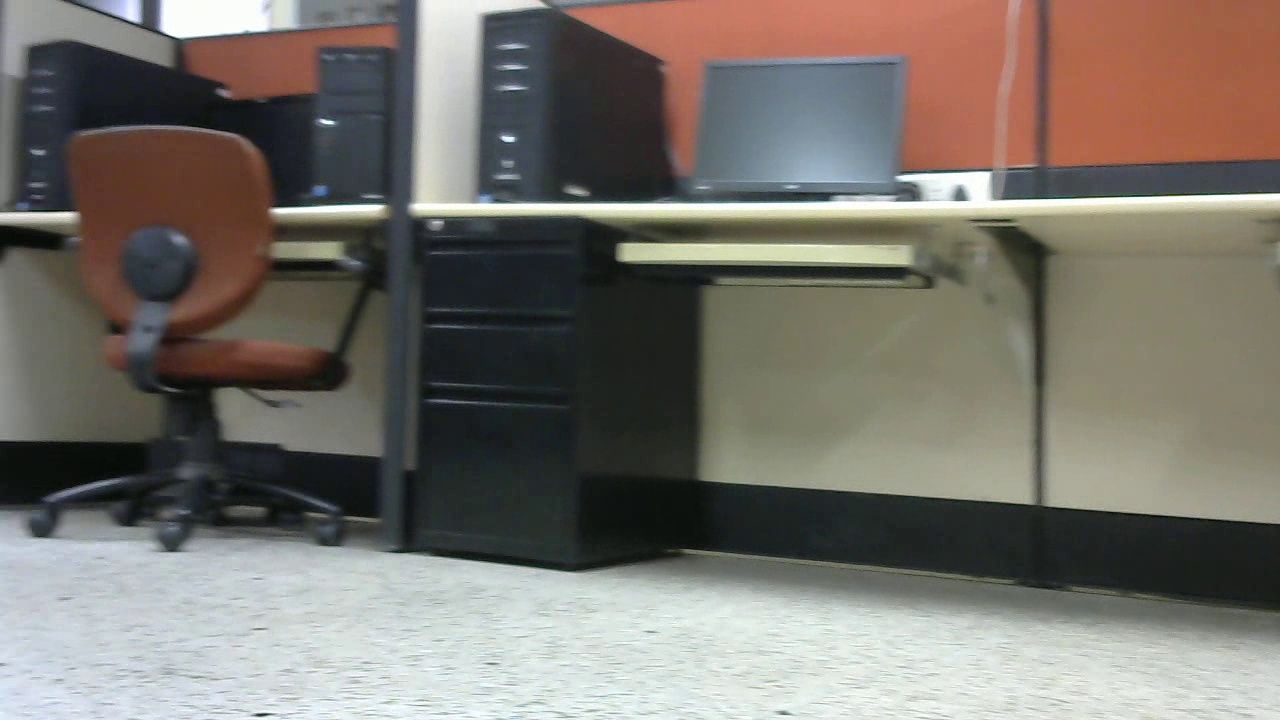chair: (26, 122, 390, 561)
